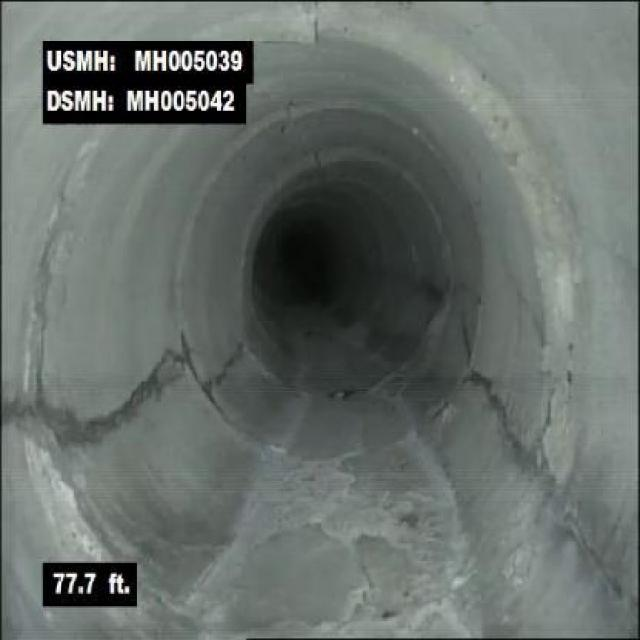Buckling: (256, 2, 422, 68)
Crack: (59, 345, 186, 452), (469, 368, 538, 466)
